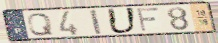4: (58, 10, 80, 37)
8: (165, 5, 191, 32)
F: (135, 7, 162, 33)
I: (88, 9, 104, 36)
Q: (26, 12, 55, 37)
U: (106, 7, 139, 35)
